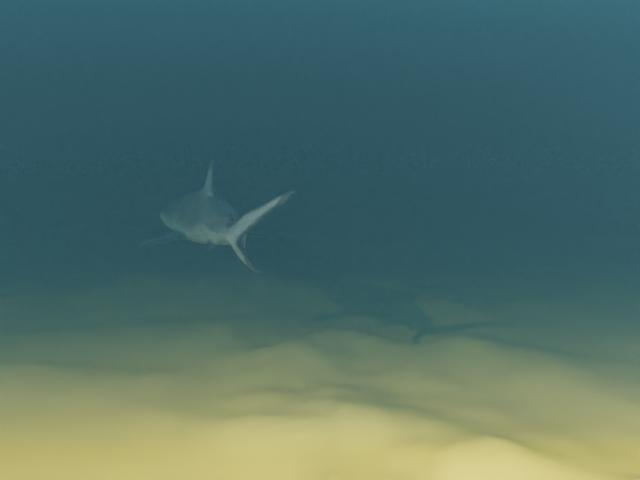Carribean Shark.001: (125, 161, 295, 273)
